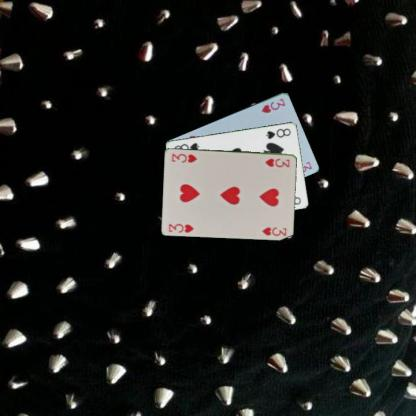3h: (259, 96, 286, 114), (263, 155, 291, 169), (166, 221, 196, 234)
8s: (263, 125, 292, 140)
